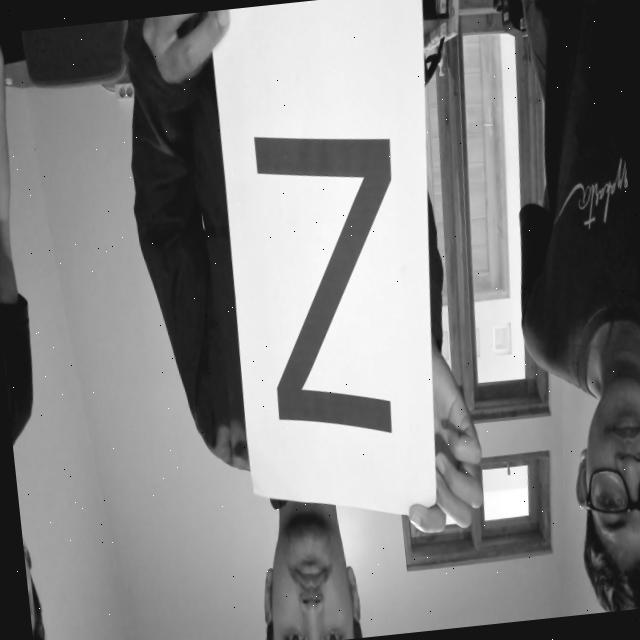z: (232, 104, 427, 471)
